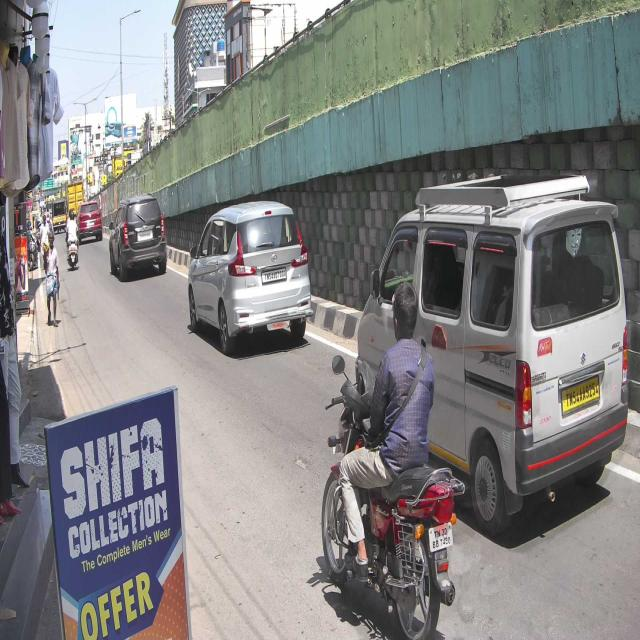single_rider: (322, 282, 460, 640)
